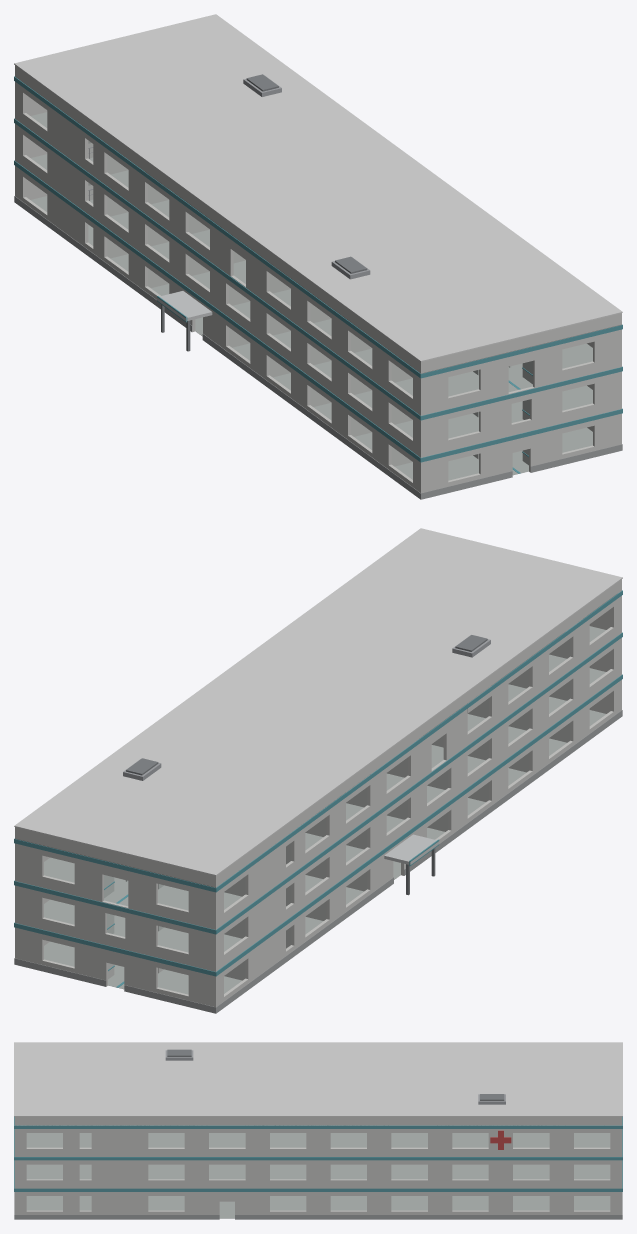
Rendered from hosp-east.plinth-v1.lod0.glb.
3 renders of one model, top to bottom at view 1: azimuth 30°, elevation 25°; view 2: azimuth 150°, elevation 25°; view 3: azimuth 270°, elevation 25°, orthographic. The views are drawn at different scales.
Parts seen in each view (by area): view 1: hosp-east; view 2: hosp-east; view 3: hosp-east.
Part boxes in pixels (x1,y1,x2,y2): hosp-east: (14,14,622,499); hosp-east: (14,528,622,1013); hosp-east: (14,1042,622,1219).
Bounding box in the file's own units: 22.69 × 13.77 × 70.12.
